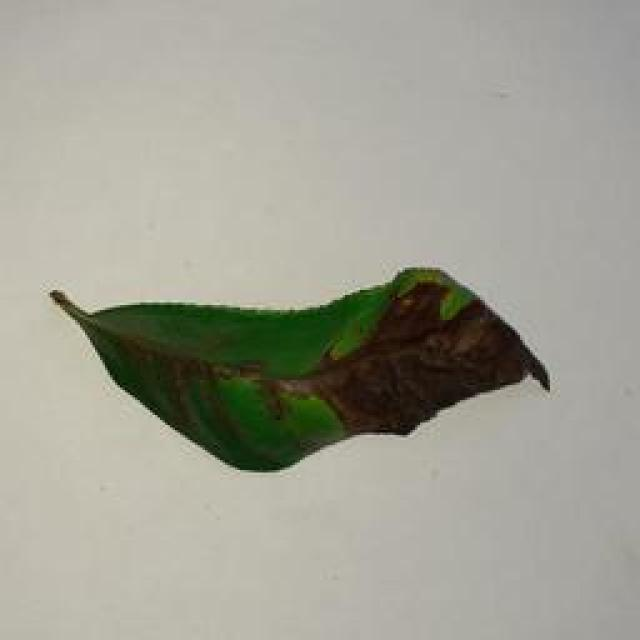Brown Blight: (39, 260, 551, 473)
